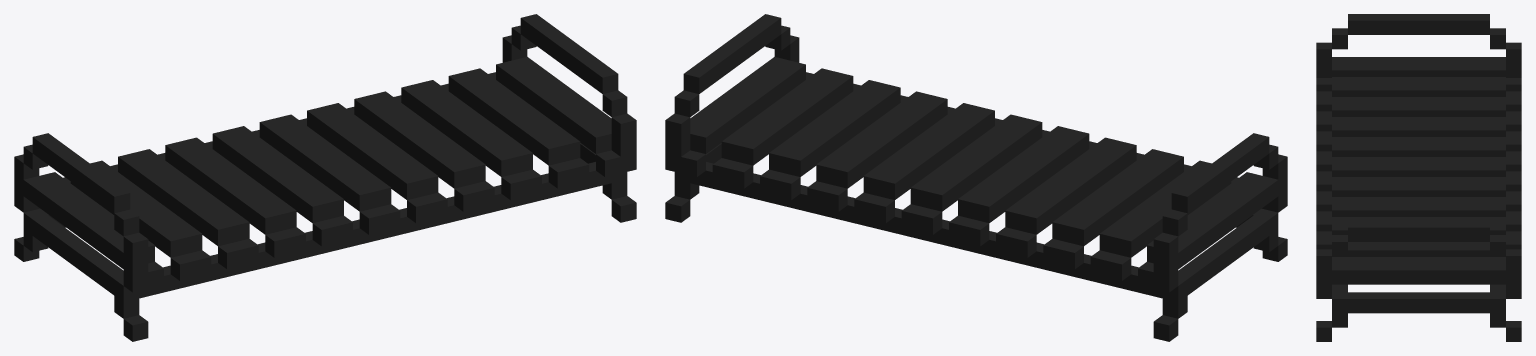
Rendered from Park_Set-4.obj.
The picture shows the model from 3 angles, left to right: view 1: azimuth 30°, elevation 25°; view 2: azimuth 150°, elevation 25°; view 3: azimuth 270°, elevation 25°; orthographic projection. The views are drawn at different scales.
Bounding box in the file's own units: 3.2 × 0.8 × 1.3.
1 material, 1 textured.
